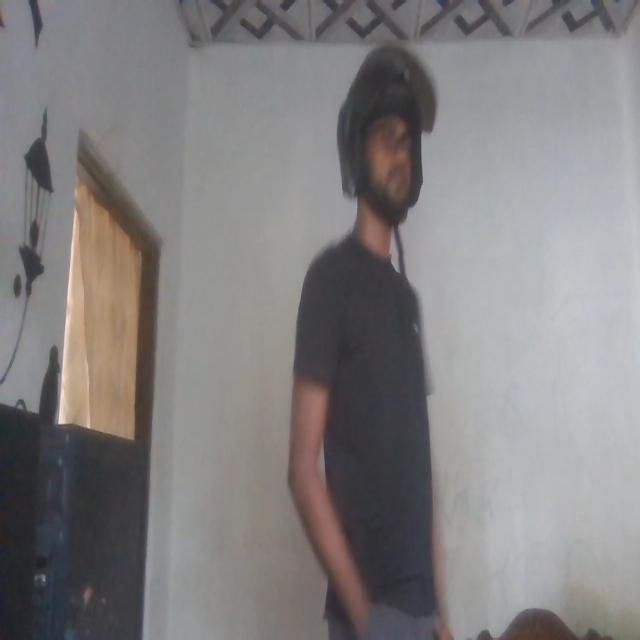Helmet_Wearer: (331, 34, 437, 263)
Person: (287, 31, 451, 640)
